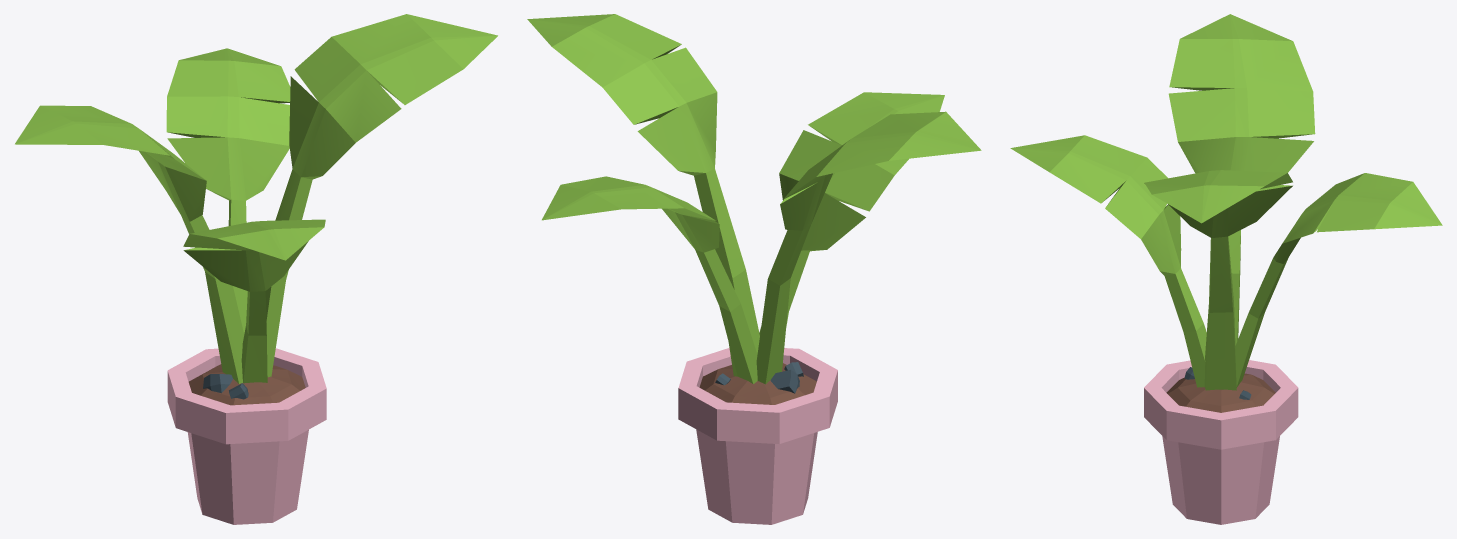
Rendered from Houseplant-e9oRt-Ct6js.glb.
The picture shows the model from 3 angles, left to right: view 1: azimuth 30°, elevation 25°; view 2: azimuth 150°, elevation 25°; view 3: azimuth 270°, elevation 25°; orthographic projection. The views are drawn at different scales.
Parts seen in each view (by area): view 1: plant_01_Cube.006; view 2: plant_01_Cube.006; view 3: plant_01_Cube.006.
Boxes of the visible parts, x1,y1,x2,y2 form: plant_01_Cube.006: (15, 14, 497, 524); plant_01_Cube.006: (527, 14, 981, 524); plant_01_Cube.006: (1010, 14, 1442, 524).
Size of the model in its own units: 228 by 199 by 194.
